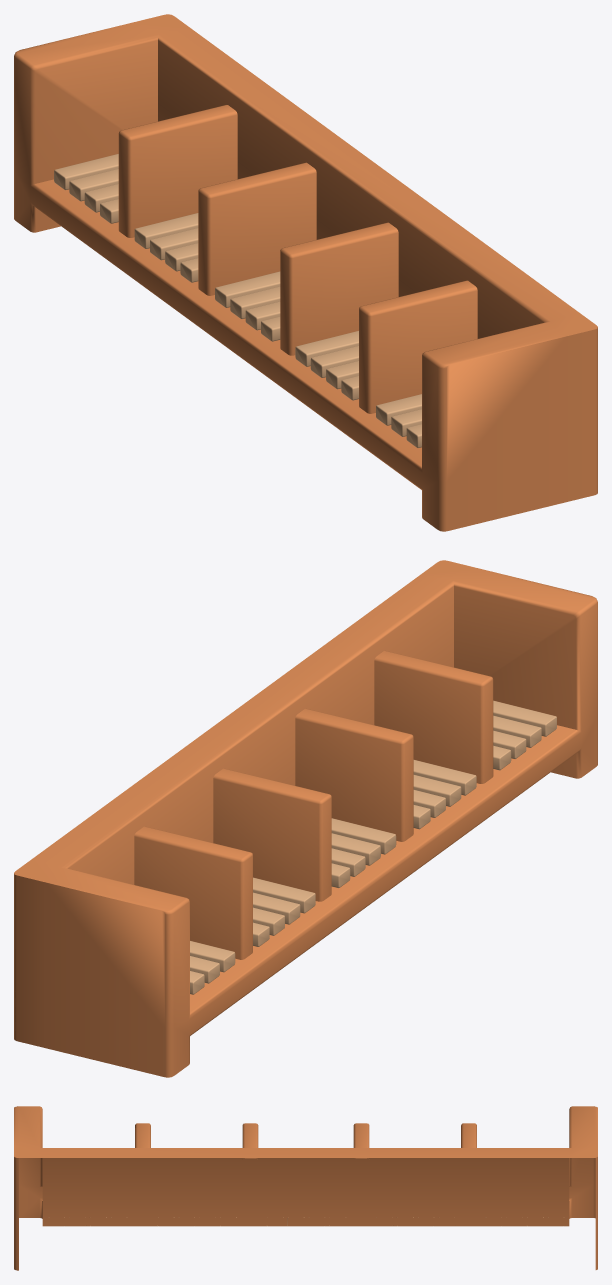
The model's file is Foodrack.fbx.
The picture shows the model from 3 angles, top to bottom: view 1: azimuth 30°, elevation 25°; view 2: azimuth 150°, elevation 25°; view 3: azimuth 270°, elevation 25°; orthographic projection. The views are drawn at different scales.
Visible parts, largest first — view 1: Cube; view 2: Cube; view 3: Cube.
Boxes of the visible parts, x1=… form: Cube: x1=14, y1=14, x2=597, y2=531; Cube: x1=14, y1=560, x2=597, y2=1077; Cube: x1=14, y1=1106, x2=597, y2=1270.
Bounding box in the file's own units: 200 × 199 × 937.
